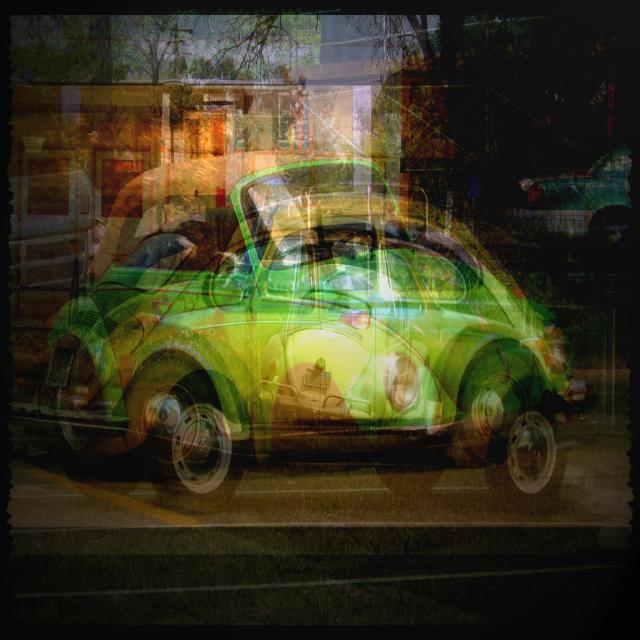car: (27, 174, 572, 495)
